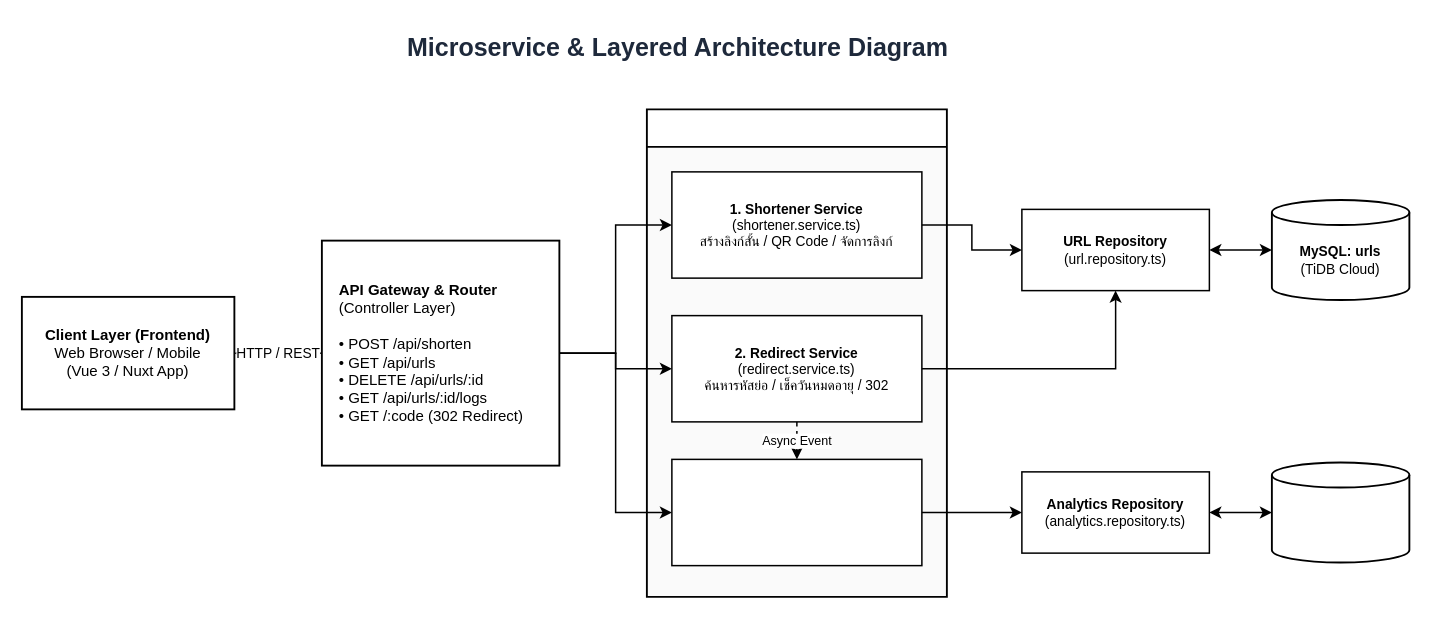
Image size: 1433x619. Some labels were removed from this diagram. Here are the shapes that lost their labels. From the top down, the box of each, then its label:
(645, 108, 947, 597): Microservices Layer (Domain Services)
(670, 458, 922, 566): 3. Analytics Service (analytics.service.ts) นับจำนวนคลิก / บันทึก Click Logs
(1270, 461, 1410, 563): MySQL: click_logs (TiDB Cloud)
